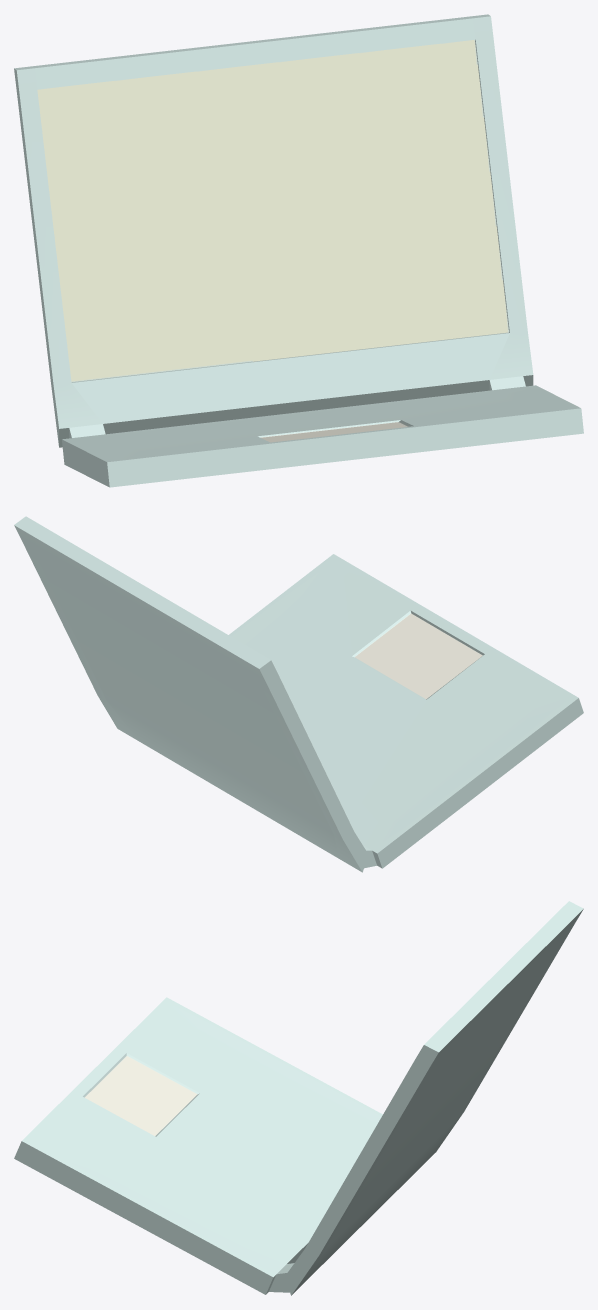
File: Komono_A_Laptop.fbx
3 views of the same model, one above another, from view 1: azimuth 30°, elevation 25°; view 2: azimuth 150°, elevation 25°; view 3: azimuth 270°, elevation 25° (orthographic). The views are drawn at different scales.
Visible parts, largest first — view 1: laptop_m; view 2: laptop_m; view 3: laptop_m.
Part boxes in pixels (bbox=[...]): laptop_m: bbox=[14, 14, 583, 487]; laptop_m: bbox=[14, 516, 583, 872]; laptop_m: bbox=[14, 901, 583, 1295].
Bounding box in the file's own units: 81.89 × 48.56 × 87.36.
